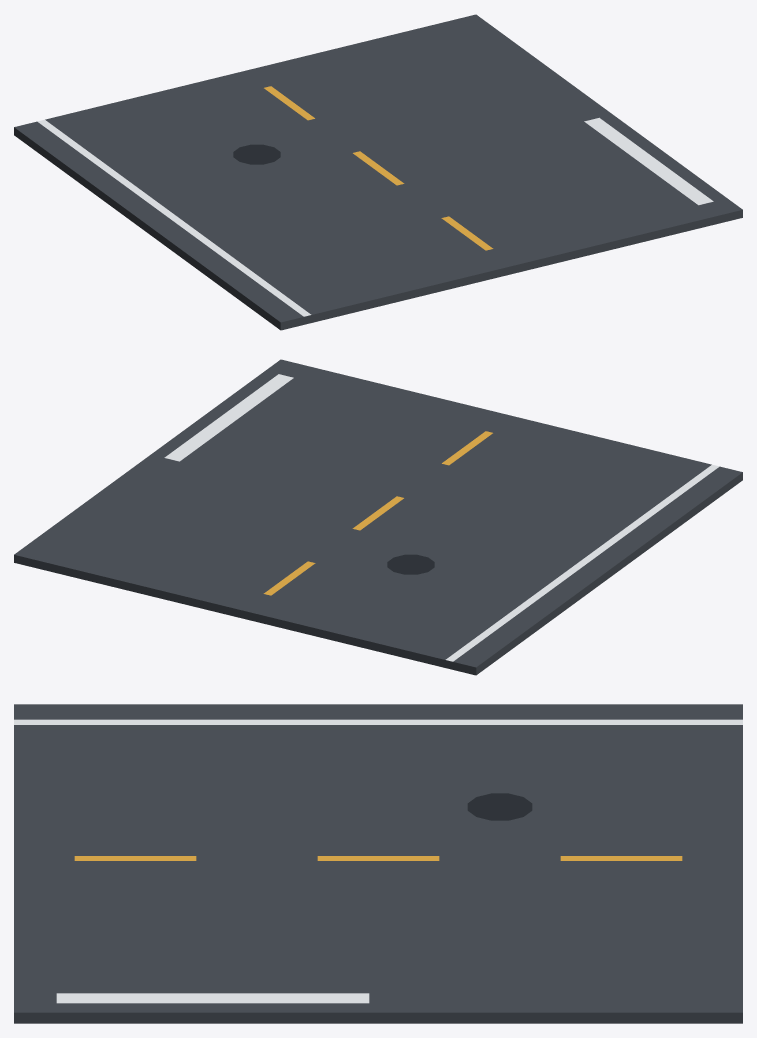
The model's file is CM_Road_TJunction.fbx.
3 renders of one model, top to bottom at view 1: azimuth 30°, elevation 25°; view 2: azimuth 150°, elevation 25°; view 3: azimuth 270°, elevation 25°, orthographic. The views are drawn at different scales.
Parts seen in each view (by area): view 1: Road; view 2: Road; view 3: Road.
Boxes of the visible parts, x1=… form: Road: x1=14, y1=14, x2=742, y2=330; Road: x1=14, y1=359, x2=742, y2=675; Road: x1=14, y1=704, x2=742, y2=1023.
Bounding box in the file's own units: 24 × 24 × 0.403.
1 material, 1 textured.
